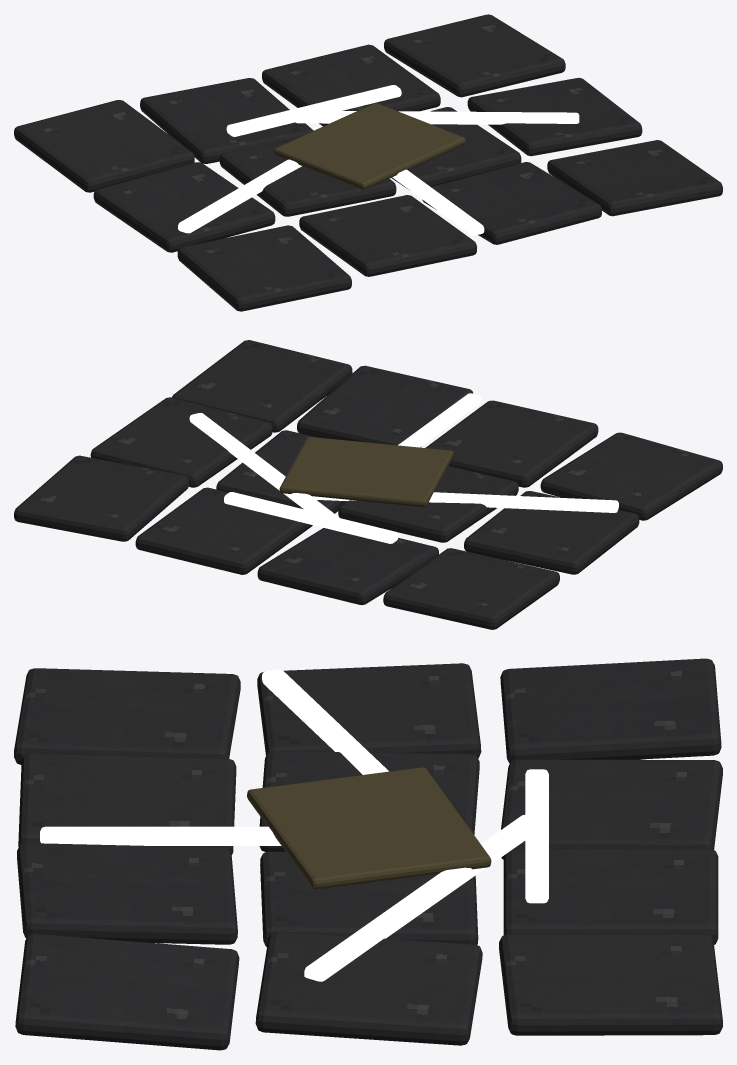
Rendered from cult_scorched_invocation.glb.
3 views of the same model, one above another, from view 1: azimuth 30°, elevation 25°; view 2: azimuth 150°, elevation 25°; view 3: azimuth 270°, elevation 25° (orthographic). The views are drawn at different scales.
Visible parts, largest first — view 1: CULT_SCORCHED_INVOCATION__Cracked_Tile_3_1, CULT_SCORCHED_INVOCATION__Cracked_Tile_1_1, CULT_SCORCHED_INVOCATION__Cracked_Tile_3_4, CULT_SCORCHED_INVOCATION__Cracked_Tile_1_2, CULT_SCORCHED_INVOCATION__Char_Centre, CULT_SCORCHED_INVOCATION__Cracked_Tile_2_1, CULT_SCORCHED_INVOCATION__Cracked_Tile_1_4, CULT_SCORCHED_INVOCATION__Cracked_Tile_1_3, CULT_SCORCHED_INVOCATION__Cracked_Tile_3_2, CULT_SCORCHED_INVOCATION__Cracked_Tile_2_4, CULT_SCORCHED_INVOCATION__Cracked_Tile_3_3, CULT_SCORCHED_INVOCATION__Cracked_Tile_2_2 (+5 smaller); view 2: CULT_SCORCHED_INVOCATION__Cracked_Tile_3_4, CULT_SCORCHED_INVOCATION__Cracked_Tile_1_4, CULT_SCORCHED_INVOCATION__Cracked_Tile_1_1, CULT_SCORCHED_INVOCATION__Cracked_Tile_3_1, CULT_SCORCHED_INVOCATION__Char_Centre, CULT_SCORCHED_INVOCATION__Cracked_Tile_1_2, CULT_SCORCHED_INVOCATION__Cracked_Tile_3_3, CULT_SCORCHED_INVOCATION__Cracked_Tile_1_3, CULT_SCORCHED_INVOCATION__Cracked_Tile_3_2, CULT_SCORCHED_INVOCATION__Cracked_Tile_2_4, CULT_SCORCHED_INVOCATION__Cracked_Tile_2_1, CULT_SCORCHED_INVOCATION__Cracked_Tile_2_2 (+5 smaller); view 3: CULT_SCORCHED_INVOCATION__Cracked_Tile_1_4, CULT_SCORCHED_INVOCATION__Cracked_Tile_3_4, CULT_SCORCHED_INVOCATION__Cracked_Tile_3_1, CULT_SCORCHED_INVOCATION__Cracked_Tile_2_4, CULT_SCORCHED_INVOCATION__Cracked_Tile_1_3, CULT_SCORCHED_INVOCATION__Char_Centre, CULT_SCORCHED_INVOCATION__Cracked_Tile_1_1, CULT_SCORCHED_INVOCATION__Cracked_Tile_3_3, CULT_SCORCHED_INVOCATION__Cracked_Tile_3_2, CULT_SCORCHED_INVOCATION__Cracked_Tile_2_1, CULT_SCORCHED_INVOCATION__Cracked_Tile_1_2, CULT_SCORCHED_INVOCATION__Cracked_Tile_2_3 (+5 smaller).
Boxes of the visible parts, bbox=[...] form: CULT_SCORCHED_INVOCATION__Cracked_Tile_3_1: bbox=[14, 100, 194, 192]; CULT_SCORCHED_INVOCATION__Cracked_Tile_1_1: bbox=[177, 225, 351, 311]; CULT_SCORCHED_INVOCATION__Cracked_Tile_3_4: bbox=[384, 14, 565, 97]; CULT_SCORCHED_INVOCATION__Cracked_Tile_1_2: bbox=[299, 195, 476, 276]; CULT_SCORCHED_INVOCATION__Char_Centre: bbox=[273, 103, 465, 189]; CULT_SCORCHED_INVOCATION__Cracked_Tile_2_1: bbox=[93, 162, 275, 252]; CULT_SCORCHED_INVOCATION__Cracked_Tile_1_4: bbox=[547, 140, 722, 216]; CULT_SCORCHED_INVOCATION__Cracked_Tile_1_3: bbox=[422, 162, 601, 244]; CULT_SCORCHED_INVOCATION__Cracked_Tile_3_2: bbox=[140, 78, 313, 163]; CULT_SCORCHED_INVOCATION__Cracked_Tile_2_4: bbox=[467, 77, 642, 156]; CULT_SCORCHED_INVOCATION__Cracked_Tile_3_3: bbox=[262, 44, 440, 126]; CULT_SCORCHED_INVOCATION__Cracked_Tile_2_2: bbox=[219, 139, 396, 216]; CULT_SCORCHED_INVOCATION__Cracked_Tile_3_4: bbox=[14, 455, 189, 541]; CULT_SCORCHED_INVOCATION__Cracked_Tile_1_4: bbox=[172, 340, 352, 432]; CULT_SCORCHED_INVOCATION__Cracked_Tile_1_1: bbox=[540, 432, 722, 520]; CULT_SCORCHED_INVOCATION__Cracked_Tile_3_1: bbox=[383, 548, 559, 629]; CULT_SCORCHED_INVOCATION__Char_Centre: bbox=[279, 437, 453, 506]; CULT_SCORCHED_INVOCATION__Cracked_Tile_1_2: bbox=[425, 400, 598, 487]; CULT_SCORCHED_INVOCATION__Cracked_Tile_3_3: bbox=[135, 487, 312, 574]; CULT_SCORCHED_INVOCATION__Cracked_Tile_1_3: bbox=[297, 365, 473, 447]; CULT_SCORCHED_INVOCATION__Cracked_Tile_3_2: bbox=[257, 528, 438, 604]; CULT_SCORCHED_INVOCATION__Cracked_Tile_2_4: bbox=[90, 397, 272, 487]; CULT_SCORCHED_INVOCATION__Cracked_Tile_2_1: bbox=[464, 491, 639, 574]; CULT_SCORCHED_INVOCATION__Cracked_Tile_2_2: bbox=[338, 466, 518, 542]; CULT_SCORCHED_INVOCATION__Cracked_Tile_1_4: bbox=[15, 933, 239, 1050]; CULT_SCORCHED_INVOCATION__Cracked_Tile_3_4: bbox=[499, 933, 722, 1035]; CULT_SCORCHED_INVOCATION__Cracked_Tile_3_1: bbox=[500, 658, 721, 763]; CULT_SCORCHED_INVOCATION__Cracked_Tile_2_4: bbox=[255, 931, 482, 1045]; CULT_SCORCHED_INVOCATION__Cracked_Tile_1_3: bbox=[17, 843, 237, 944]; CULT_SCORCHED_INVOCATION__Char_Centre: bbox=[247, 767, 491, 889]; CULT_SCORCHED_INVOCATION__Cracked_Tile_1_1: bbox=[14, 668, 240, 764]; CULT_SCORCHED_INVOCATION__Cracked_Tile_3_3: bbox=[503, 849, 718, 944]; CULT_SCORCHED_INVOCATION__Cracked_Tile_3_2: bbox=[501, 759, 722, 859]; CULT_SCORCHED_INVOCATION__Cracked_Tile_2_1: bbox=[257, 663, 481, 758]; CULT_SCORCHED_INVOCATION__Cracked_Tile_1_2: bbox=[18, 753, 236, 854]; CULT_SCORCHED_INVOCATION__Cracked_Tile_2_3: bbox=[260, 851, 478, 946].
Size of the model in its own units: 1.27 by 0.0842 by 1.06.
Materials: 3 (1 with a texture image).
